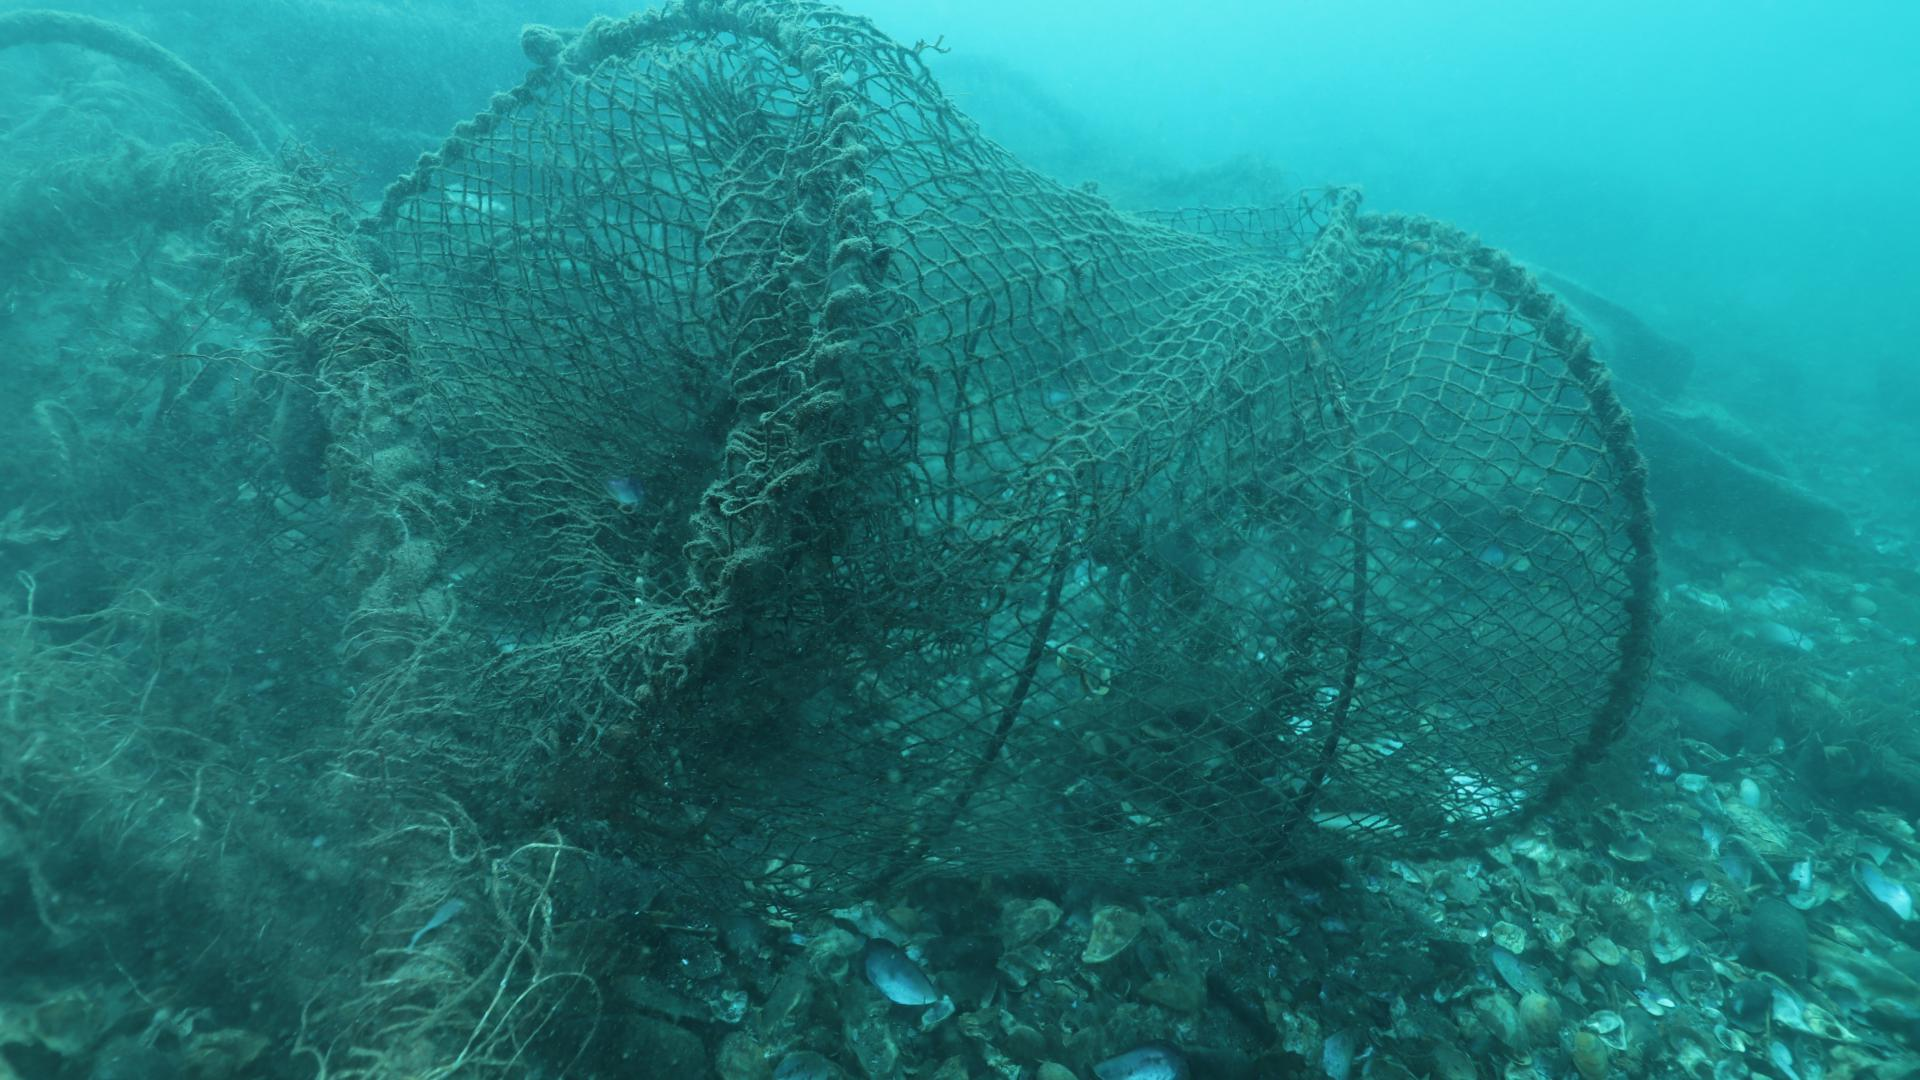spring fish trap: (326, 0, 1654, 891)
